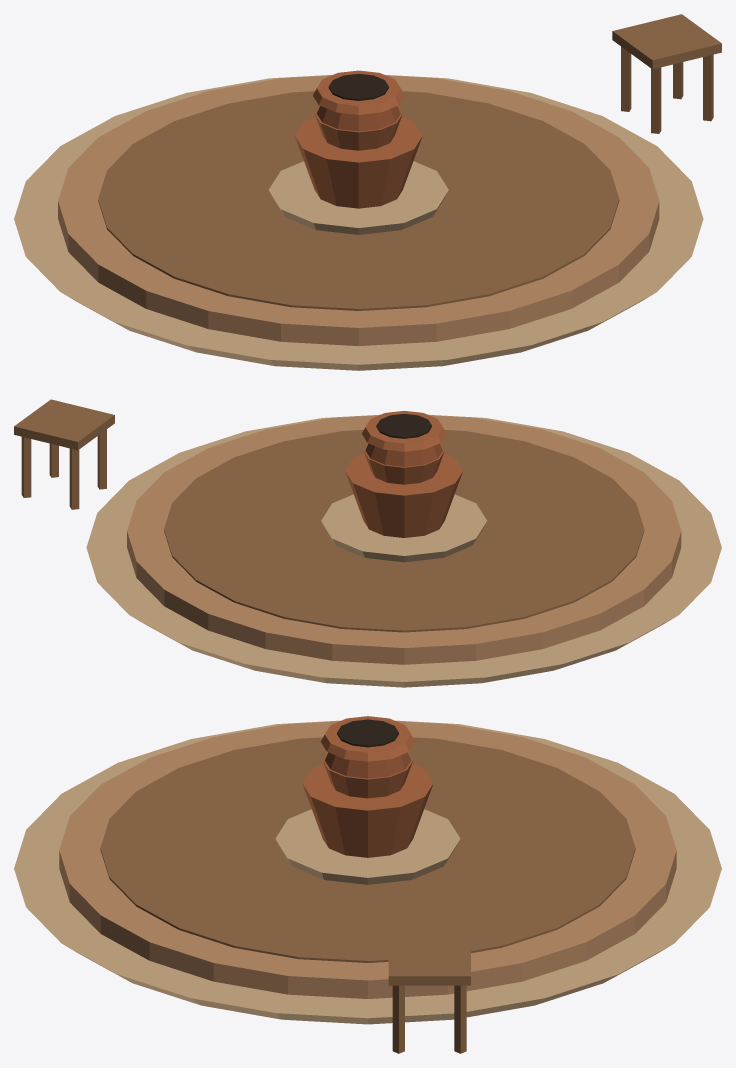
File: pottery_wheel.glb
3 views of the same model, one above another, from view 1: azimuth 30°, elevation 25°; view 2: azimuth 150°, elevation 25°; view 3: azimuth 270°, elevation 25° (orthographic). The views are drawn at different scales.
Parts seen in each view (by area): view 1: wheel, housing; view 2: wheel, housing; view 3: wheel, housing.
Part boxes in pixels (x1=…): wheel: x1=58, y1=70, x2=659, y2=345; housing: x1=14, y1=14, x2=721, y2=370; wheel: x1=127, y1=410, x2=681, y2=664; housing: x1=14, y1=399, x2=721, y2=687; wheel: x1=59, y1=716, x2=676, y2=998; housing: x1=14, y1=720, x2=721, y2=1053.
Bounding box in the file's own units: 3.87 × 1.28 × 3.44.
